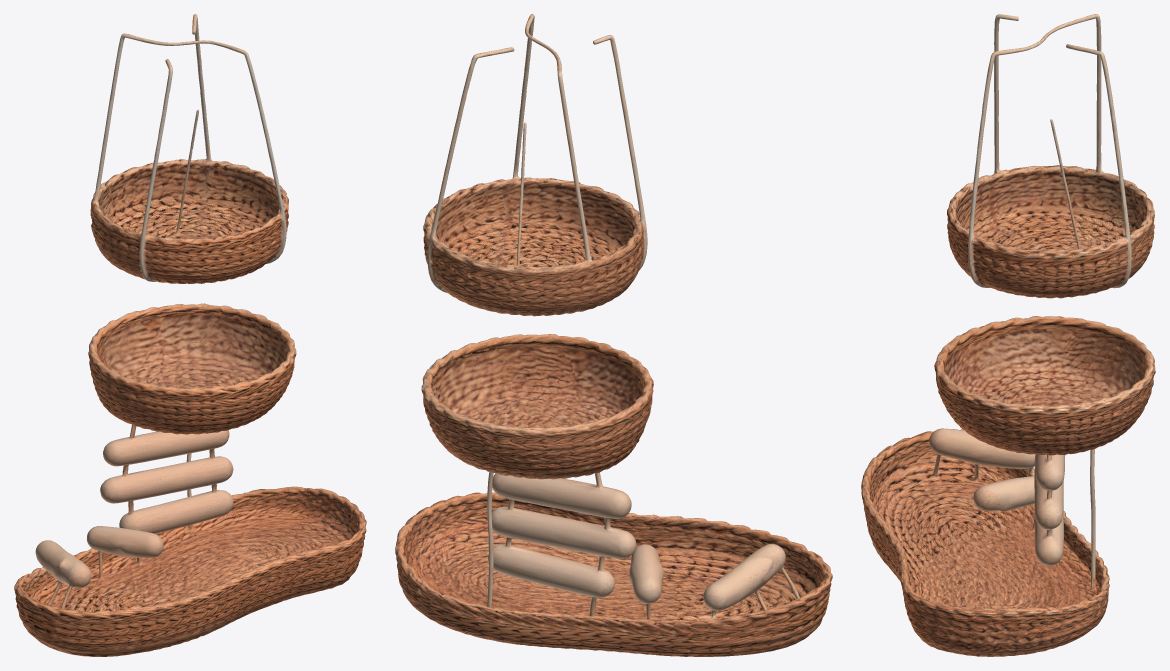
The model's file is raw.glb.
3 renders of one model, left to right at view 1: azimuth 30°, elevation 25°; view 2: azimuth 150°, elevation 25°; view 3: azimuth 270°, elevation 25°, orthographic. The views are drawn at different scales.
Parts seen in each view (by area): view 1: Mesh_0; view 2: Mesh_0; view 3: Mesh_0.
Boxes of the visible parts, left/top/right/bottom form: Mesh_0: left=14, top=14, right=366, bottom=656; Mesh_0: left=395, top=14, right=832, bottom=656; Mesh_0: left=861, top=14, right=1155, bottom=656.
Bounding box in the file's own units: 1.32 × 1.91 × 0.9117.
Materials: 1 (1 with a texture image).
